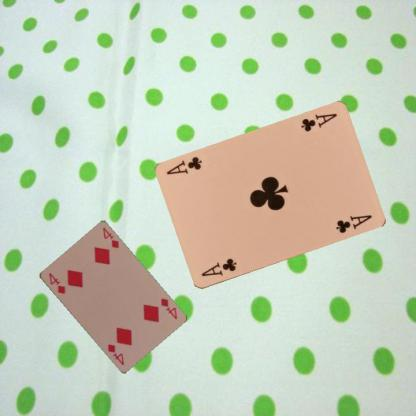4d: (158, 295, 178, 321), (46, 270, 66, 294)
Ac: (298, 111, 339, 133), (198, 256, 238, 278)
